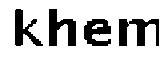e: (82, 16, 112, 46)
h: (45, 6, 79, 48)
k: (10, 6, 43, 49)
m: (117, 13, 160, 52)
